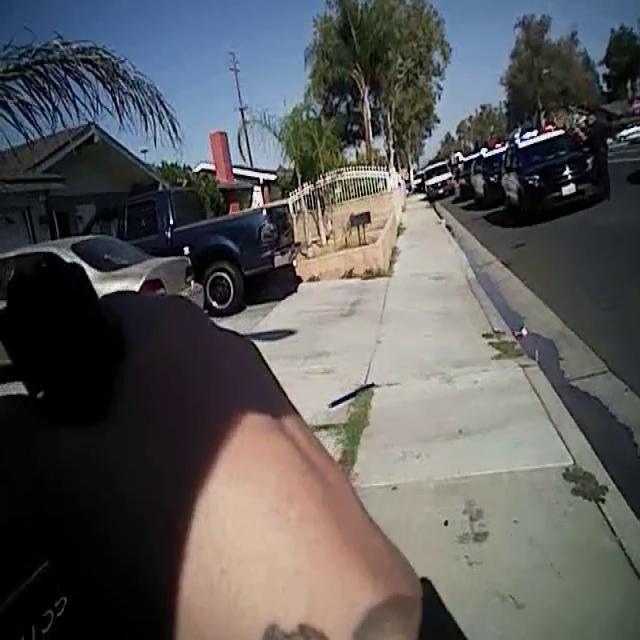gun: (7, 234, 151, 490)
